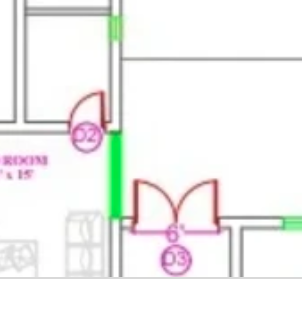door: (53, 75, 113, 154)
double door: (127, 162, 225, 251)
